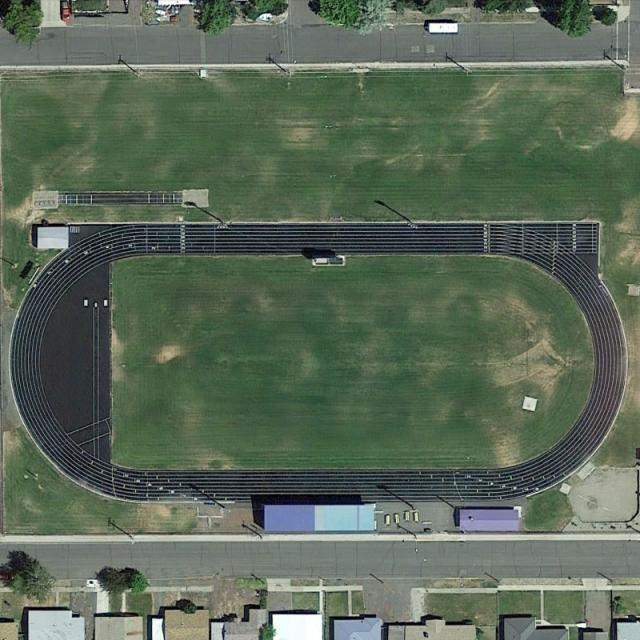vehicle: (428, 22, 459, 33), (62, 2, 70, 22)
